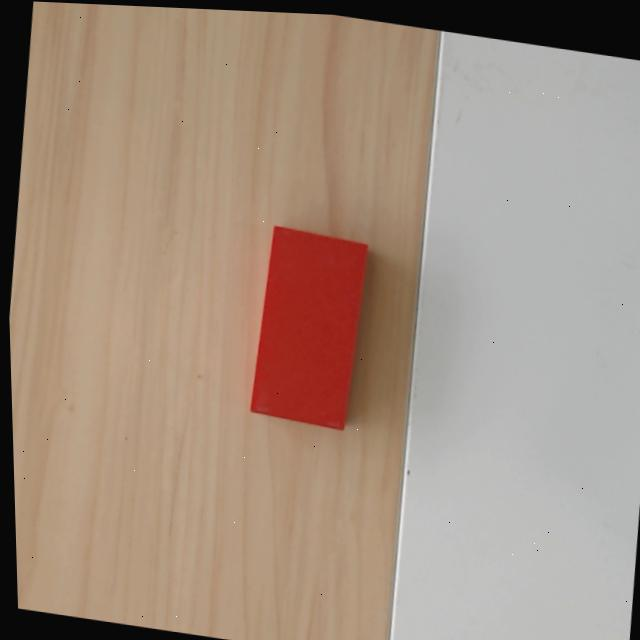Balok-Merah-1005025: (246, 224, 368, 431)
